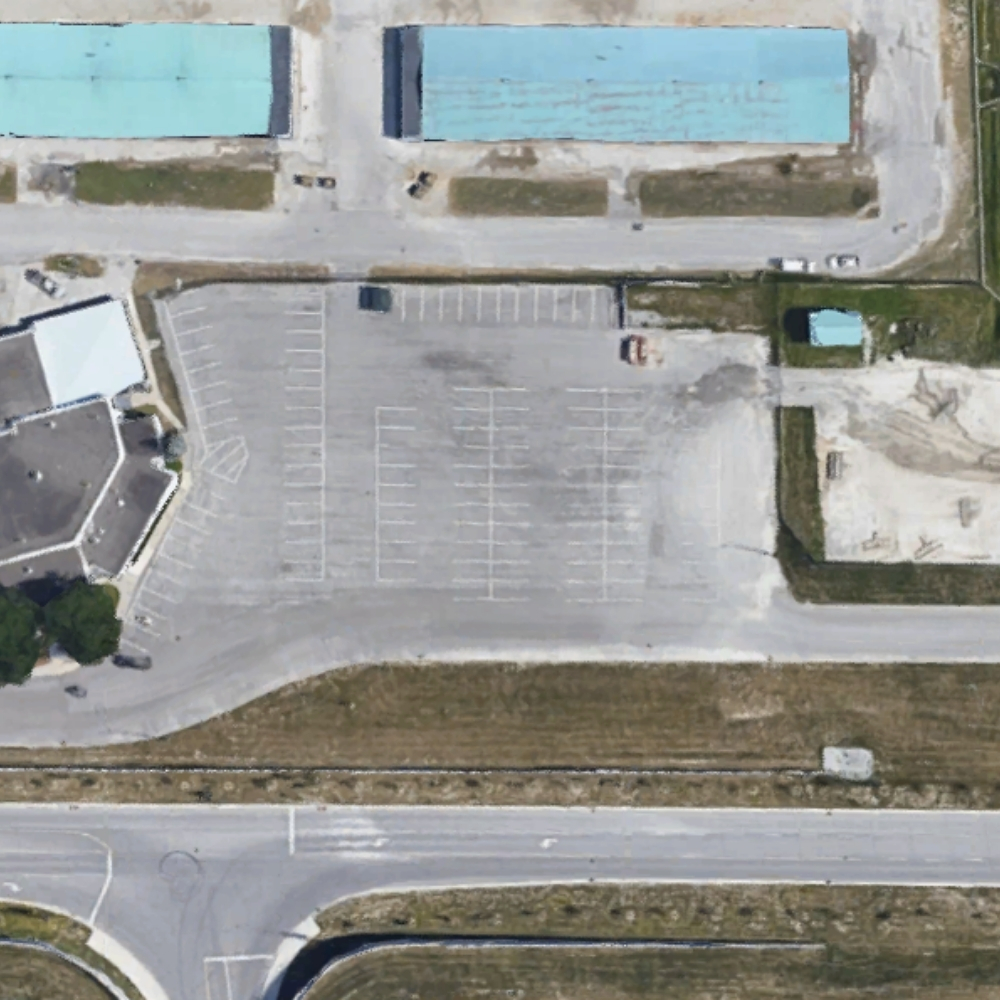parking: (150, 280, 780, 600)
